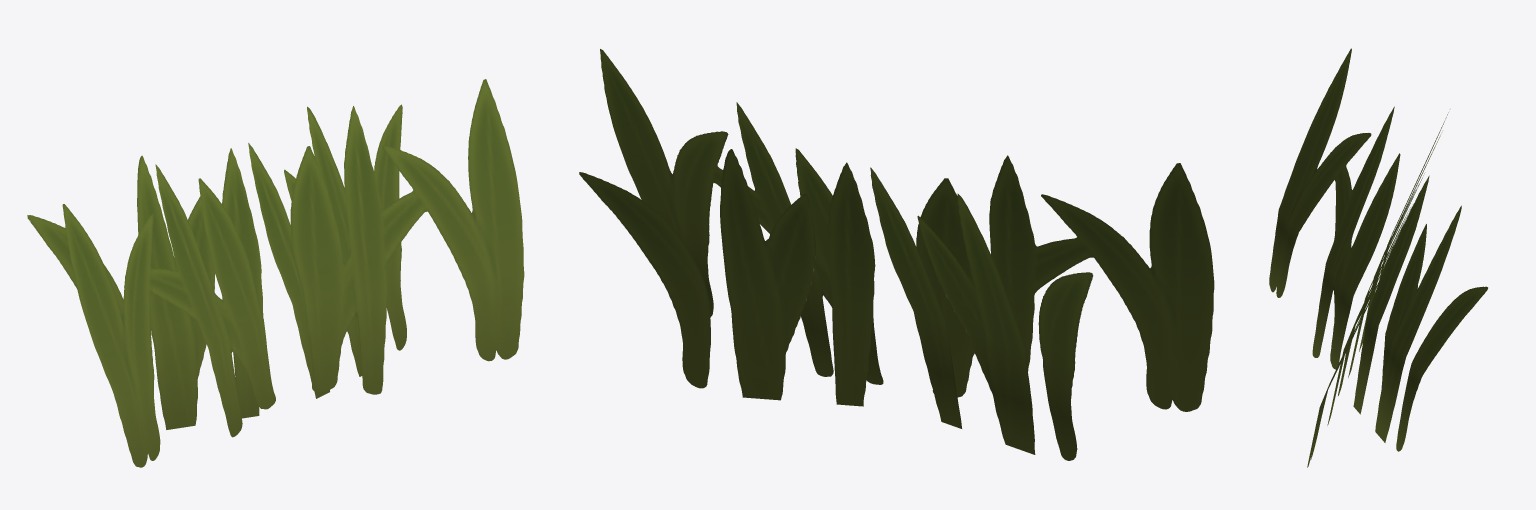
File: grass_6.FBX
The picture shows the model from 3 angles, left to right: view 1: azimuth 30°, elevation 25°; view 2: azimuth 150°, elevation 25°; view 3: azimuth 270°, elevation 25°; orthographic projection. The views are drawn at different scales.
Parts seen in each view (by area): view 1: Grass-6; view 2: Grass-6; view 3: Grass-6.
Part boxes in pixels (left/top/right/bottom): Grass-6: left=27, top=79, right=524, bottom=467; Grass-6: left=579, top=49, right=1214, bottom=460; Grass-6: left=1269, top=48, right=1487, bottom=467.
Size of the model in its own units: 41.73 by 23.17 by 20.83.
